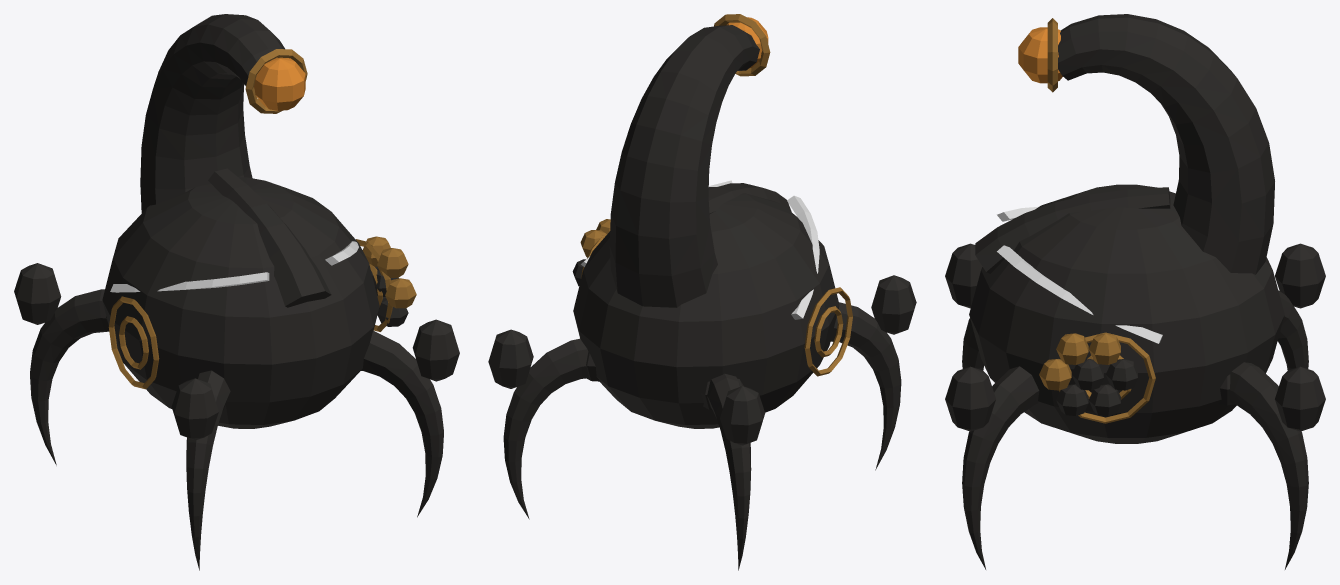
The model's file is artillery_t2.glb.
3 renders of one model, left to right at view 1: azimuth 30°, elevation 25°; view 2: azimuth 150°, elevation 25°; view 3: azimuth 270°, elevation 25°, orthographic. The views are drawn at different scales.
Visible parts, largest first — view 1: body; view 2: body; view 3: body.
Boxes of the visible parts, bbox=[...] form: body: bbox=[14, 14, 459, 570]; body: bbox=[488, 14, 916, 570]; body: bbox=[945, 14, 1325, 569].
Size of the model in its own units: 4.01 by 6.44 by 4.46.
